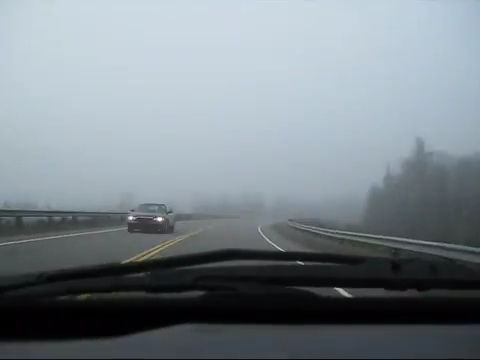car: (126, 200, 175, 235)
